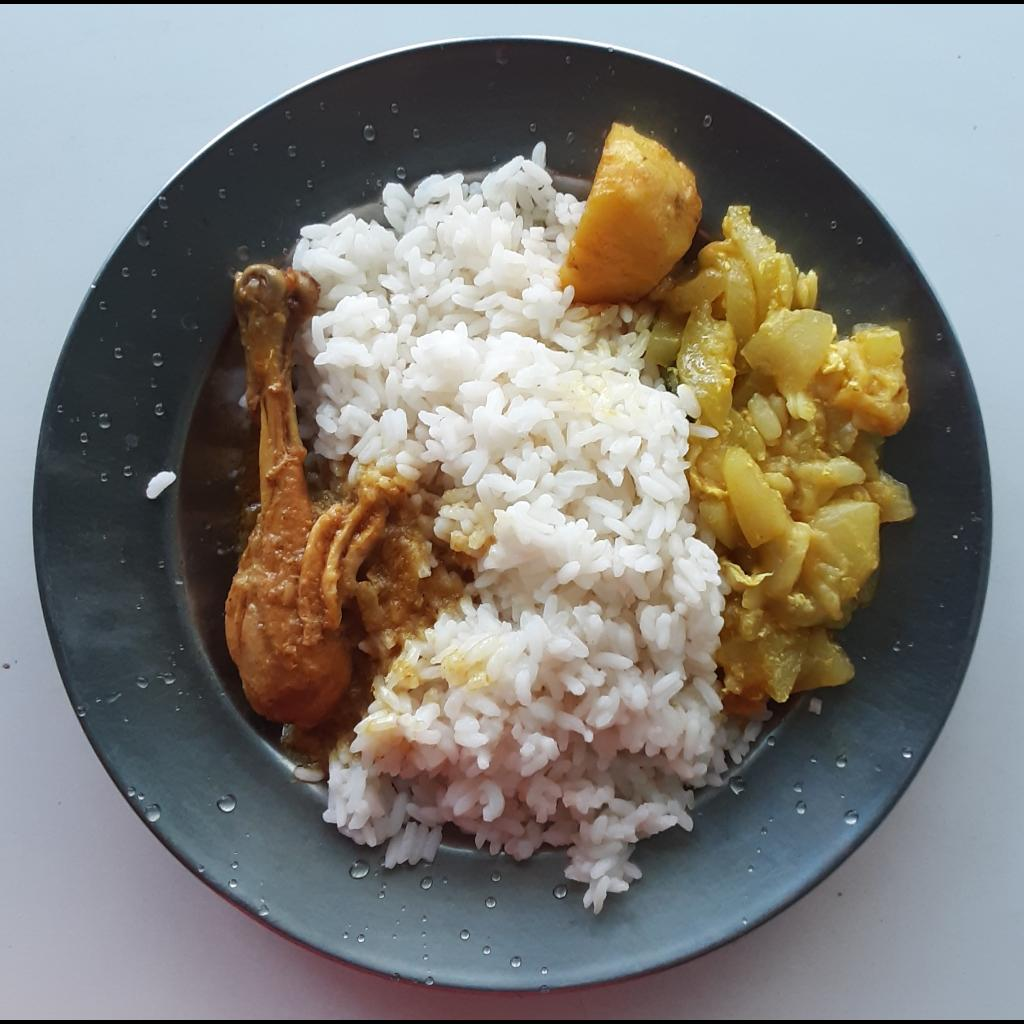chicken: (226, 261, 450, 767)
lau: (642, 201, 913, 720)
potato: (556, 120, 700, 306)
rice: (293, 143, 758, 911)
